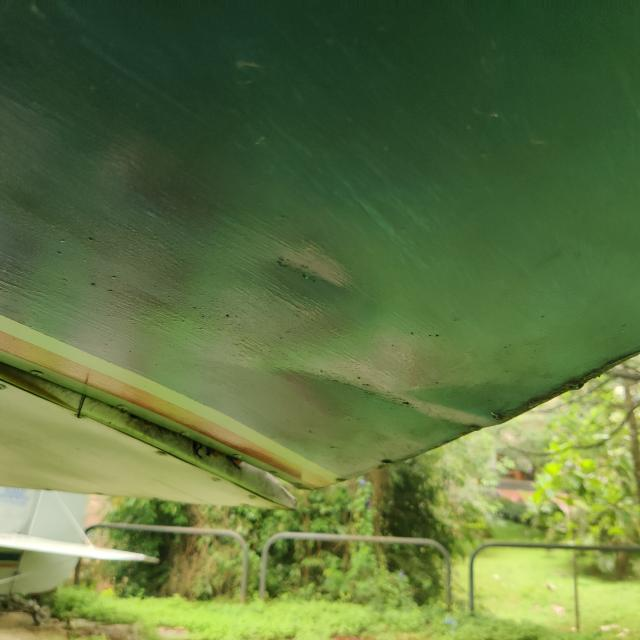dent: (245, 314, 529, 480), (258, 220, 371, 316)
